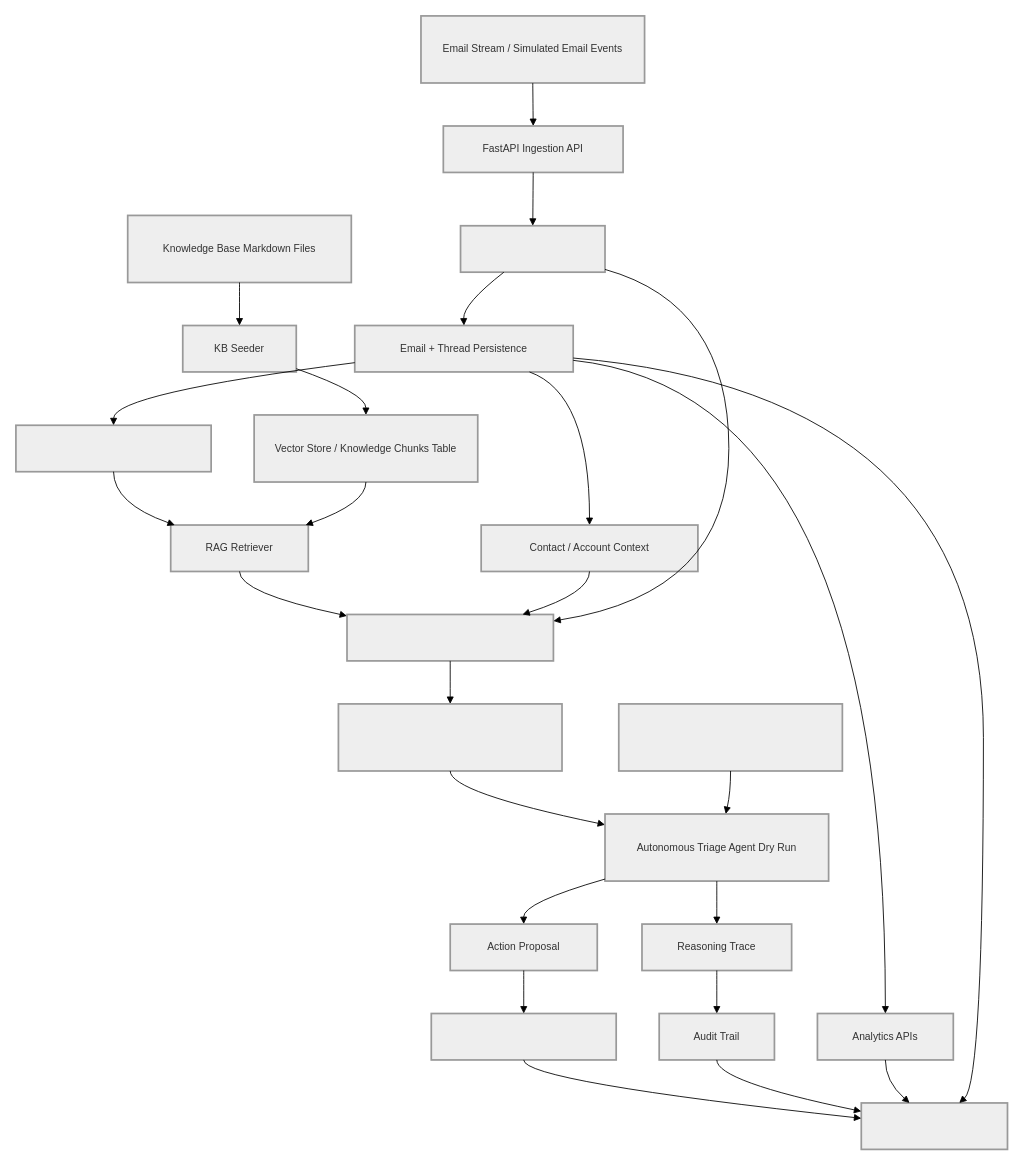
Image size: 1023x1164. Some labels were removed from this diagram. Each missing label, with the centre of its shape:
"Heuristic Filter" goes at (x=532, y=248).
"Human Review Queue" goes at (x=523, y=1036).
"LLM Classification Engine" goes at (x=450, y=637).
"React Frontend" goes at (x=934, y=1126).
"Safety Overrides + Fallback Classifier" goes at (x=449, y=737).
"Thread Context Builder" goes at (x=113, y=448).
"Web Intelligence / External Signal Service" goes at (x=730, y=737).
